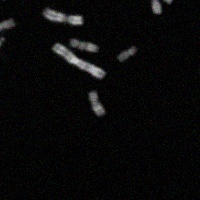chromosome: (52, 43, 106, 79), (42, 8, 85, 25), (69, 37, 98, 54), (88, 90, 103, 115), (117, 45, 136, 62), (147, 0, 162, 15), (0, 18, 14, 31), (0, 36, 4, 55), (164, 0, 184, 3)
